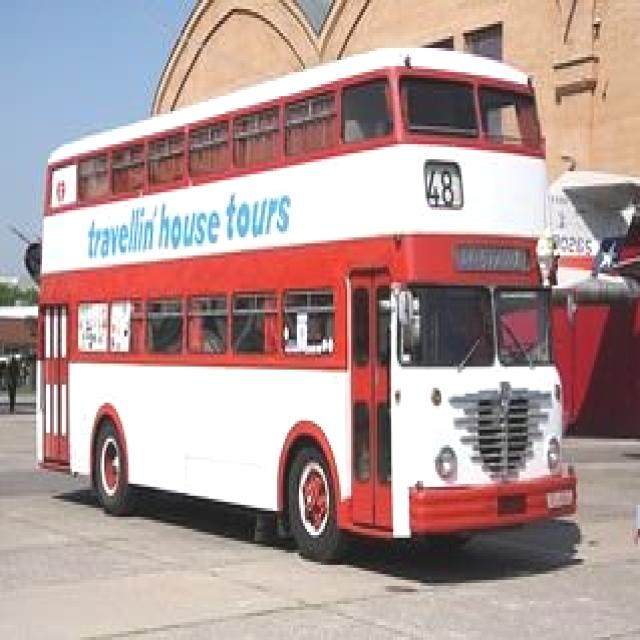Bus: (56, 160, 528, 486)
